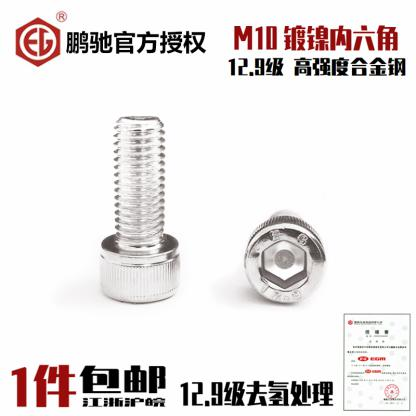FOD: (95, 116, 186, 305), (240, 210, 327, 308)
